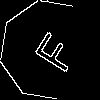F: (25, 25, 80, 75)
